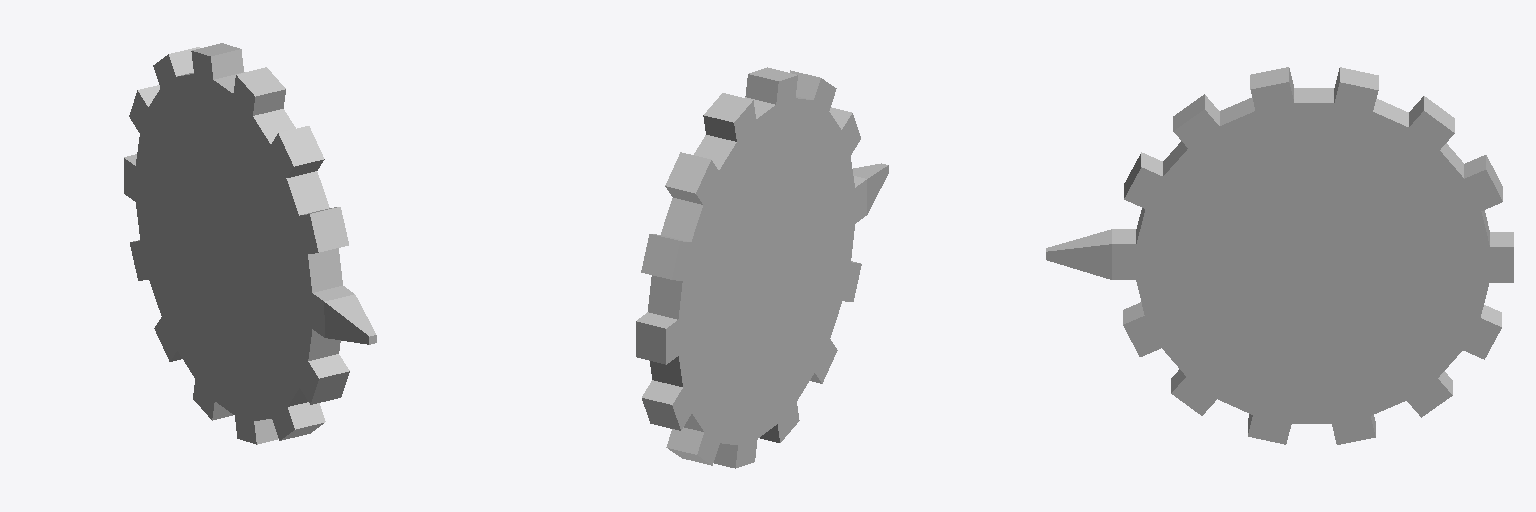
File: gear_000006.obj
3 renders of one model, left to right at view 1: azimuth 30°, elevation 25°; view 2: azimuth 150°, elevation 25°; view 3: azimuth 270°, elevation 25°, orthographic.
Parts seen in each view (by area): view 1: gear_Cylinder.001; view 2: gear_Cylinder.001; view 3: gear_Cylinder.001.
Part boxes in pixels (left/top/right/bottom): gear_Cylinder.001: left=124, top=43, right=376, bottom=444; gear_Cylinder.001: left=636, top=67, right=888, bottom=468; gear_Cylinder.001: left=1046, top=67, right=1513, bottom=444.
Size of the model in its own units: 0.1 by 1.13 by 1.32.